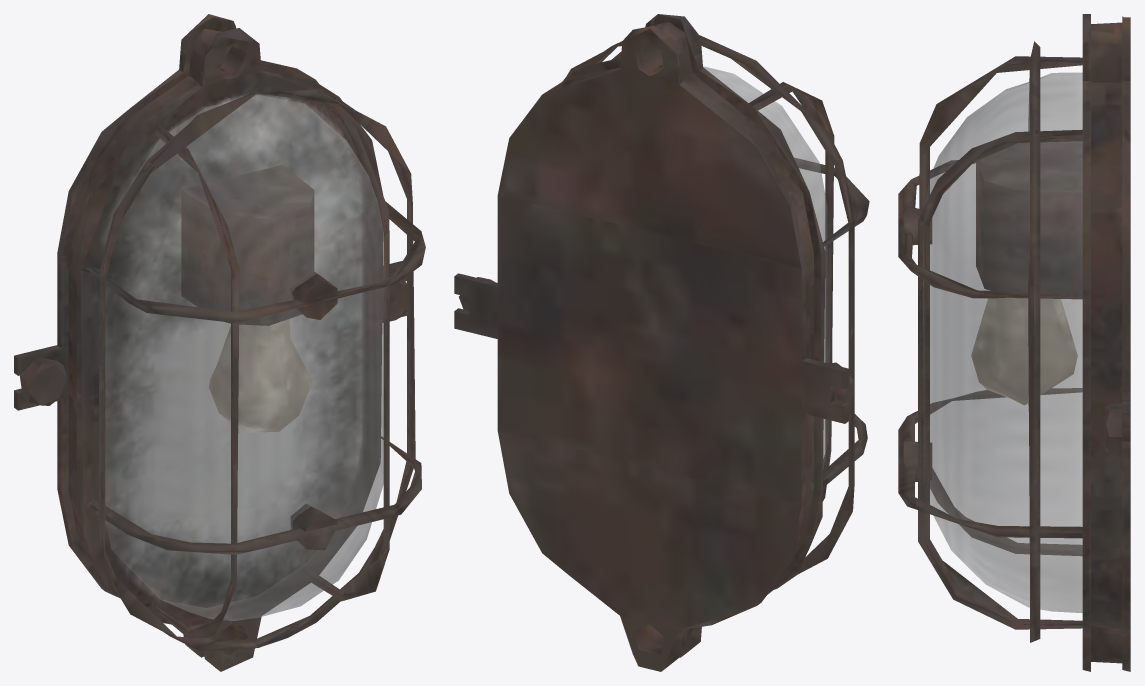
The model's file is lampWall.glb.
The picture shows the model from 3 angles, left to right: view 1: azimuth 30°, elevation 25°; view 2: azimuth 150°, elevation 25°; view 3: azimuth 270°, elevation 25°; orthographic projection.
Visible parts, largest first — view 1: industrial_wall_lamp; view 2: industrial_wall_lamp; view 3: industrial_wall_lamp.
Part boxes in pixels (x1,y1,x2,y2): industrial_wall_lamp: (14, 14, 425, 671); industrial_wall_lamp: (454, 14, 869, 671); industrial_wall_lamp: (898, 14, 1130, 671).
Bounding box in the file's own units: 0.2734 × 0.4283 × 0.1389.
2 materials, 2 textured.
